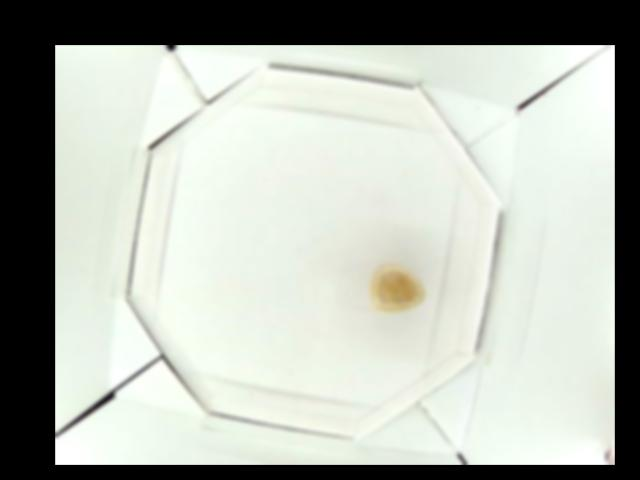Pebble: (374, 268, 427, 310)
